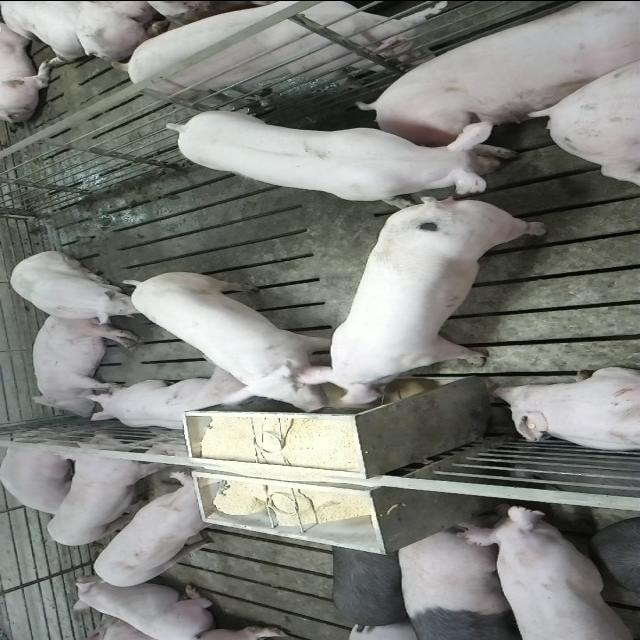Feeding: (298, 198, 550, 406), (124, 273, 346, 419)
Lateral_lying: (358, 2, 636, 162), (26, 310, 140, 418)
Sitting: (8, 250, 154, 325)
Standing: (111, 0, 442, 105), (163, 108, 516, 206), (459, 499, 640, 638), (92, 472, 236, 588), (391, 519, 528, 638)
Sternal_lying: (490, 366, 640, 454), (84, 368, 266, 432), (72, 580, 222, 638), (3, 434, 87, 515)
